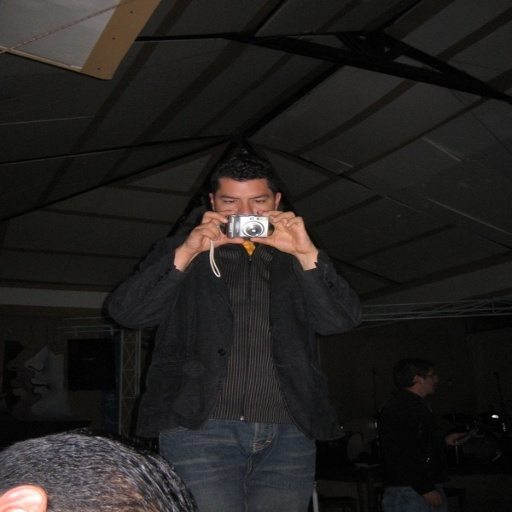hand: (268, 204, 318, 263), (182, 209, 244, 254), (420, 491, 442, 507), (446, 432, 471, 445)
